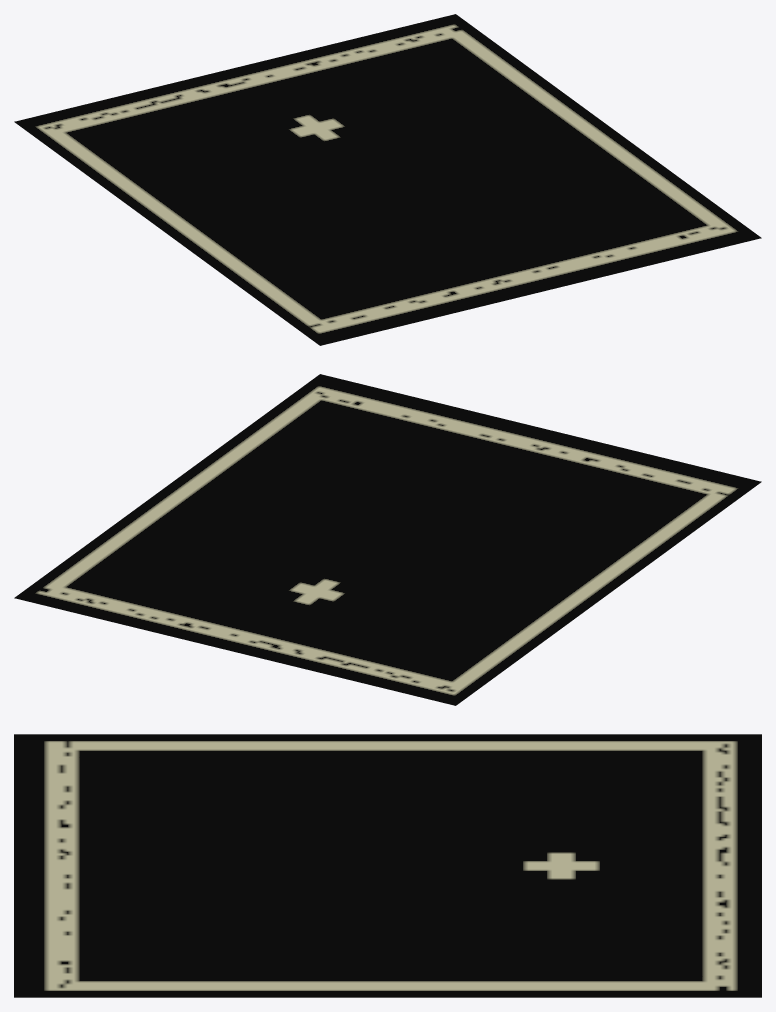
File: ParkingOutline.fbx
The picture shows the model from 3 angles, top to bottom: view 1: azimuth 30°, elevation 25°; view 2: azimuth 150°, elevation 25°; view 3: azimuth 270°, elevation 25°; orthographic projection. The views are drawn at different scales.
Parts seen in each view (by area): view 1: ParkingOutline; view 2: ParkingOutline; view 3: ParkingOutline.
Part boxes in pixels (x1,y1,x2,y2): ParkingOutline: (14, 14, 761, 345); ParkingOutline: (14, 374, 761, 705); ParkingOutline: (14, 734, 761, 997).
Bounding box in the file's own units: 1000 × 0 × 1200.
